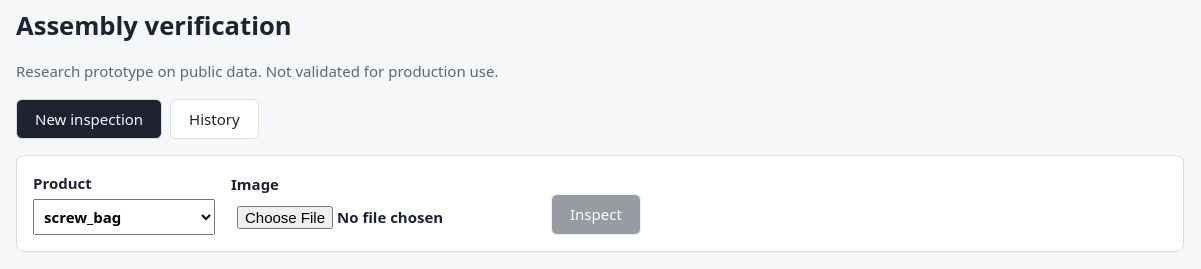
Scenario: App › warns when the selected product has no weights installed
The image size is (1201, 269).
Select "splicing_connectors" in the dropdown labelled "Product". click: (124, 217)
box: [33, 199, 215, 235]
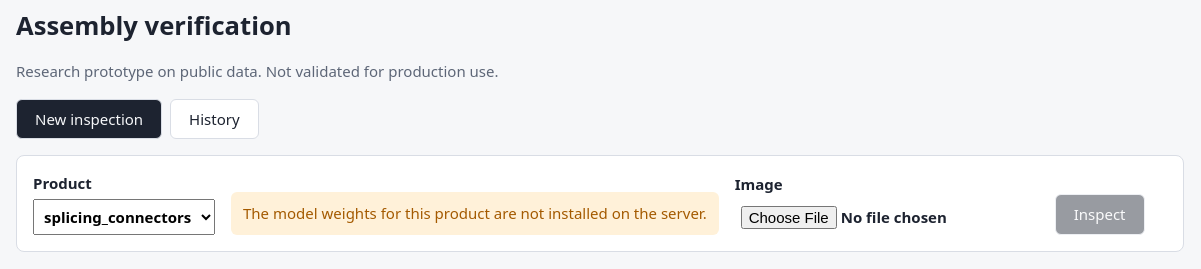
Result: the text "weights for this product are not installed" is shown at [243, 203, 707, 223]
